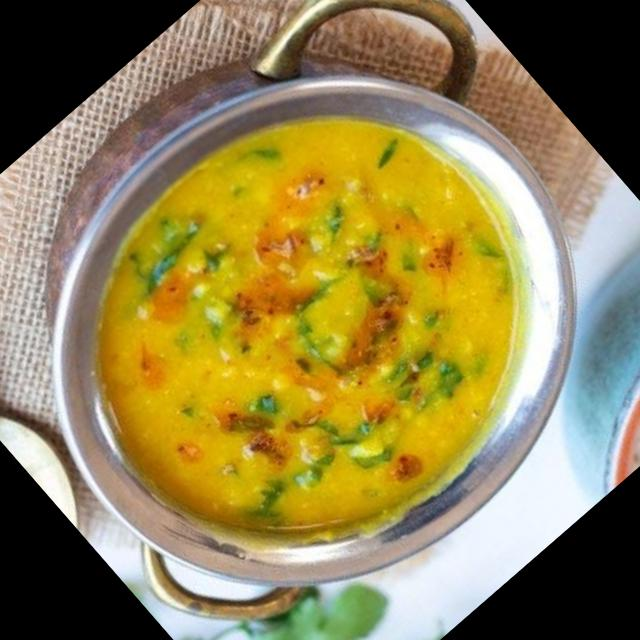dal: (28, 46, 602, 616)
